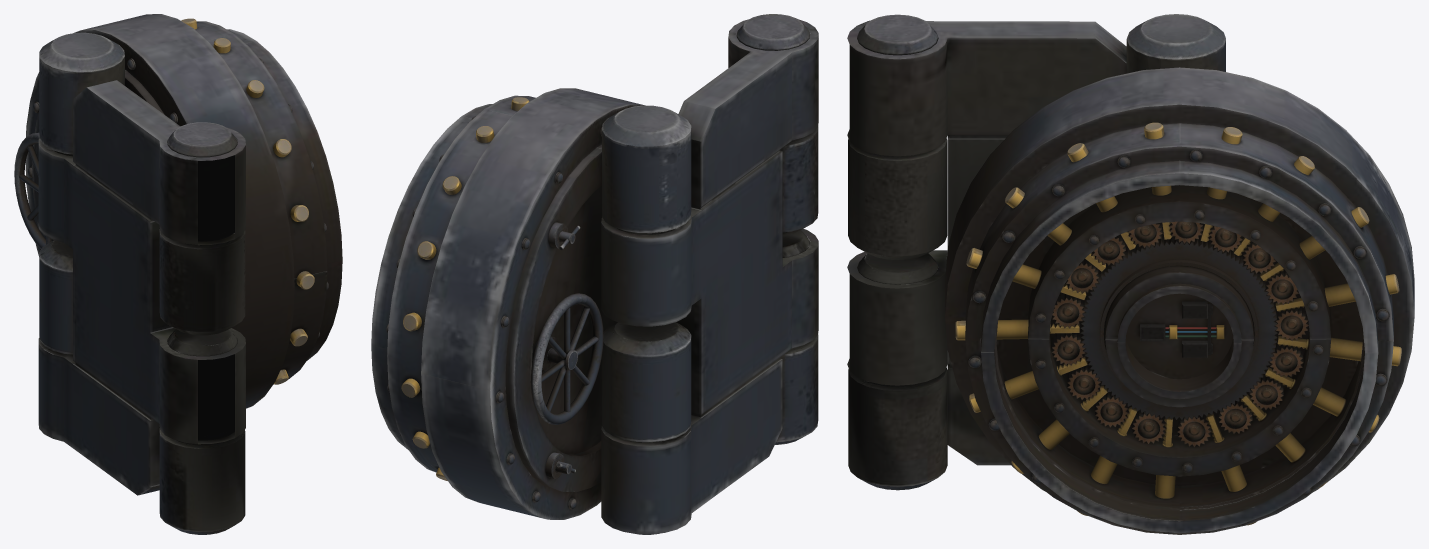
The model's file is vault_door_leaf.glb.
3 renders of one model, left to right at view 1: azimuth 30°, elevation 25°; view 2: azimuth 150°, elevation 25°; view 3: azimuth 270°, elevation 25°, orthographic. The views are drawn at different scales.
Parts seen in each view (by area): view 1: Object_6, Object_3, Object_7, Object_8, Object_5, Object_4; view 2: Object_3, Object_6, Object_8, Object_5, Object_4, Object_7; view 3: Object_3, Object_2, Object_6, Object_8, Object_7, Object_4, Object_5.
Boxes of the visible parts, <box> form: Object_6: <box>38,30,313,495</box>; Object_3: <box>25,14,342,408</box>; Object_7: <box>159,329,245,534</box>; Object_8: <box>39,18,314,384</box>; Object_5: <box>27,101,72,355</box>; Object_4: <box>14,58,328,337</box>; Object_3: <box>371,88,645,519</box>; Object_6: <box>471,14,818,534</box>; Object_8: <box>387,97,691,480</box>; Object_5: <box>386,259,691,534</box>; Object_4: <box>530,293,603,424</box>; Object_7: <box>412,208,818,444</box>; Object_3: <box>945,67,1414,534</box>; Object_2: <box>997,185,1363,508</box>; Object_6: <box>847,14,1323,472</box>; Object_8: <box>955,14,1401,525</box>; Object_7: <box>848,203,1331,490</box>; Object_4: <box>968,155,1308,483</box>; Object_5: <box>1165,209,1389,533</box>.
Size of the model in its own units: 1.45 by 2.28 by 2.62.
Materials: 2 (2 with a texture image).
